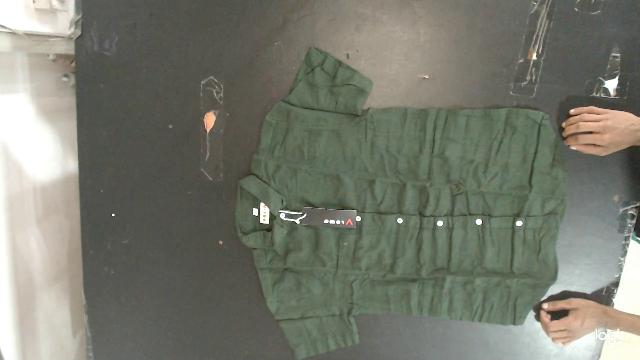new-garment: (235, 47, 567, 358)
